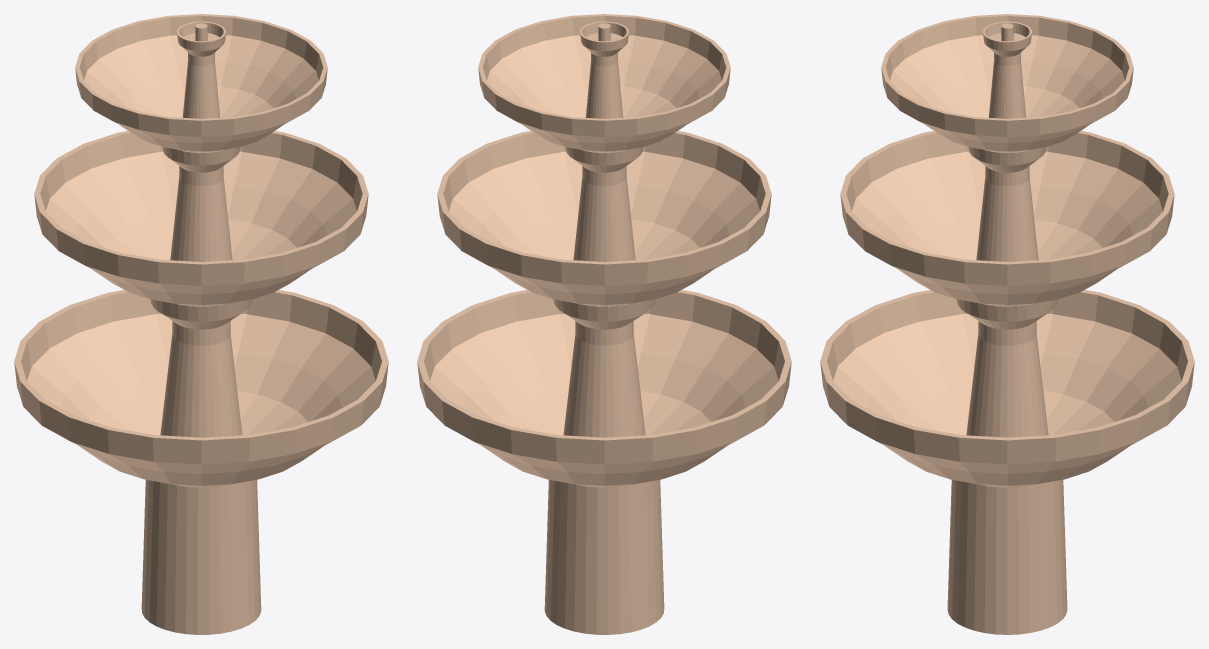
Rendered from Mesha_Fountain.fbx.
3 renders of one model, left to right at view 1: azimuth 30°, elevation 25°; view 2: azimuth 150°, elevation 25°; view 3: azimuth 270°, elevation 25°, orthographic.
Visible parts, largest first — view 1: Fuente fondos.001; view 2: Fuente fondos.001; view 3: Fuente fondos.001.
Boxes of the visible parts, box(x1,y1,x2,y2) form: Fuente fondos.001: box(14, 14, 388, 634); Fuente fondos.001: box(417, 14, 791, 634); Fuente fondos.001: box(820, 14, 1194, 634).
Size of the model in its own units: 1.1 by 1.89 by 1.1.
